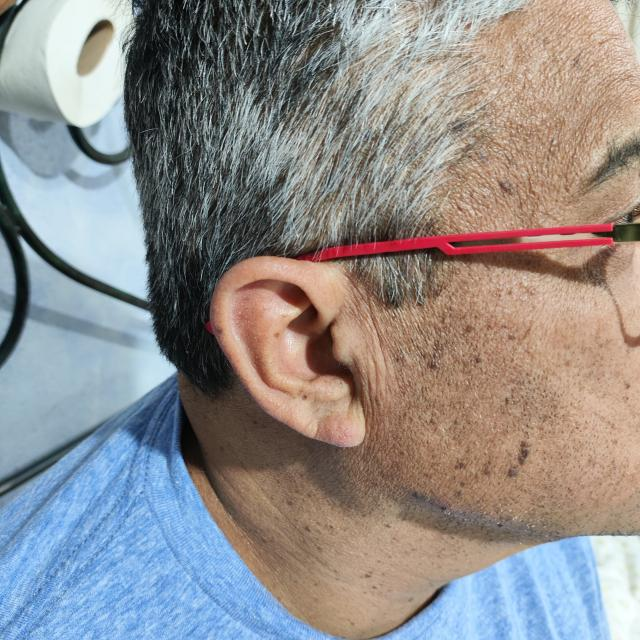ear: (211, 256, 372, 448)
